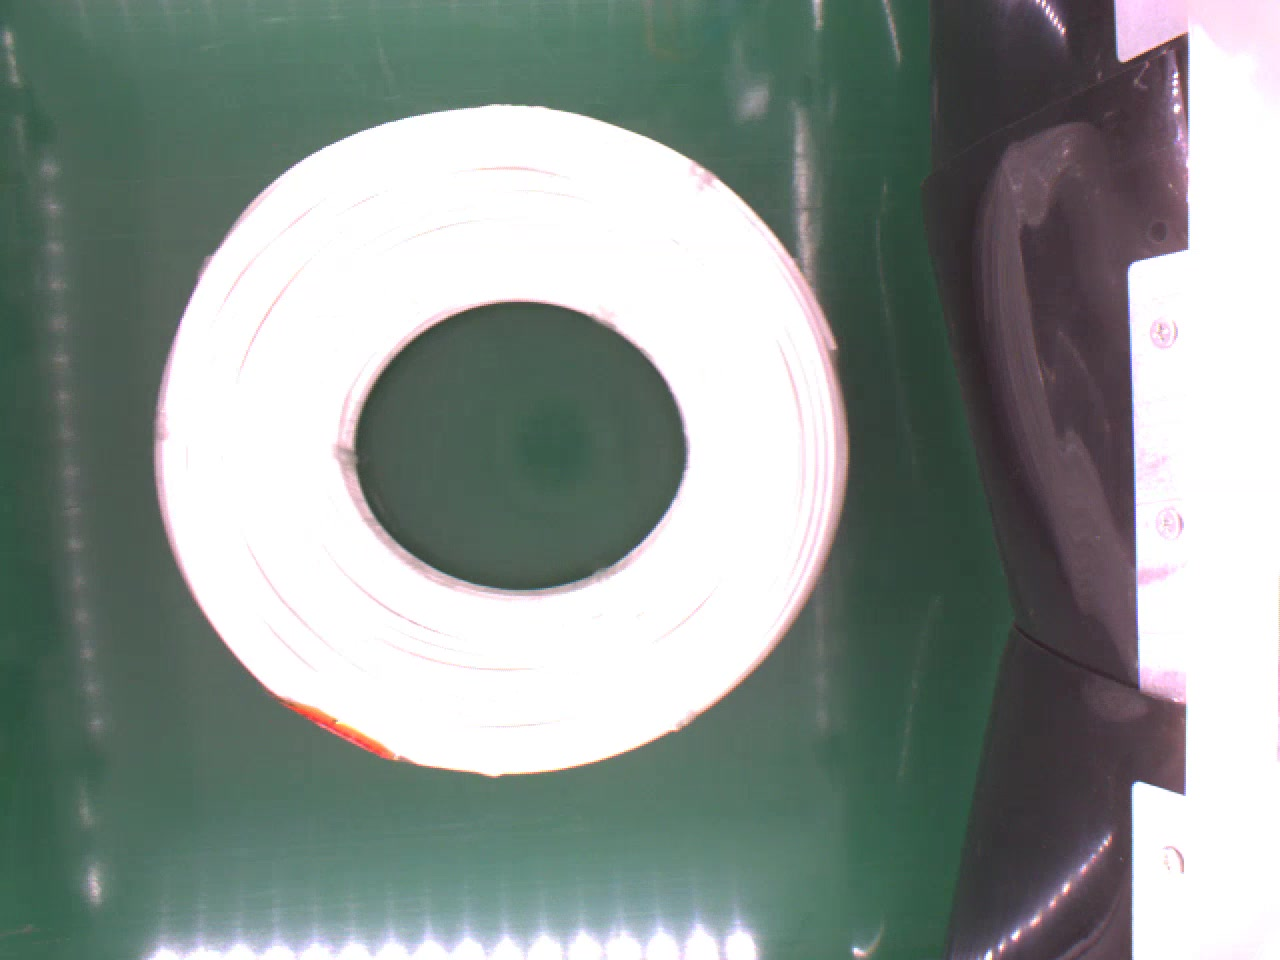white: (158, 97, 865, 775)
